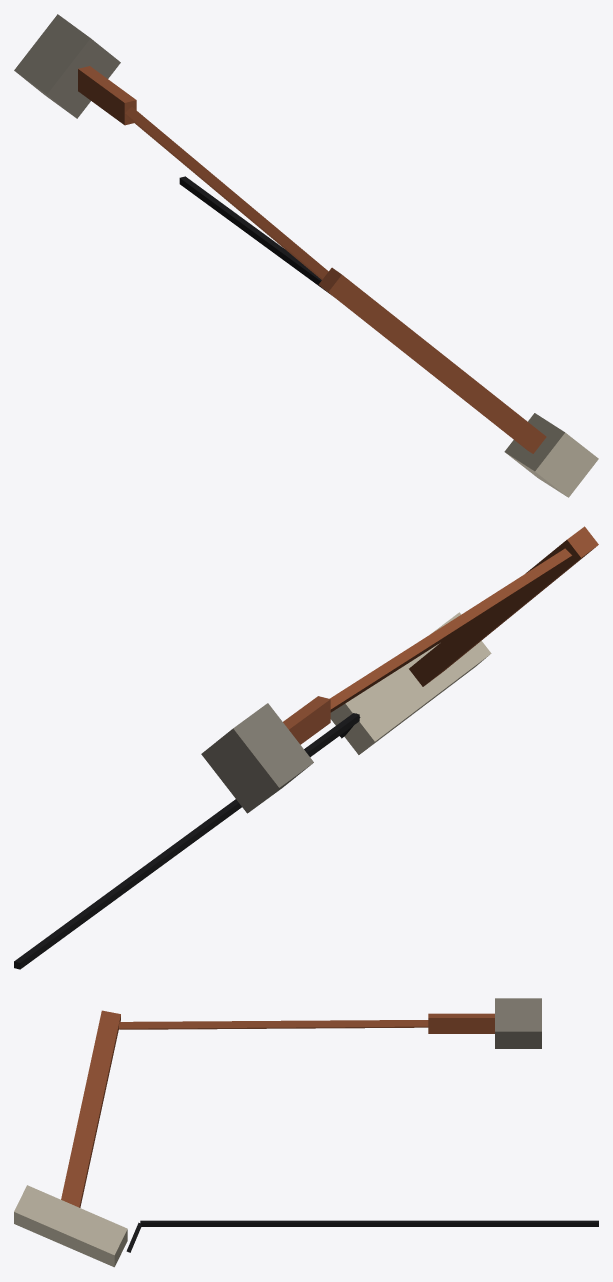
3 views of the same model, one above another, from view 1: azimuth 30°, elevation 25°; view 2: azimuth 150°, elevation 25°; view 3: azimuth 270°, elevation 25° (orthographic). The views are drawn at different scales.
Parts seen in each view (by area): view 1: t00_g29_p3; view 2: t00_g29_p3; view 3: t00_g29_p3.
Boxes of the visible parts, box(x1,y1,x2,y2) form: t00_g29_p3: box(14, 14, 598, 497); t00_g29_p3: box(14, 526, 598, 969); t00_g29_p3: box(14, 998, 598, 1267).
Size of the model in its own units: 10.7 by 11.6 by 29.84.
